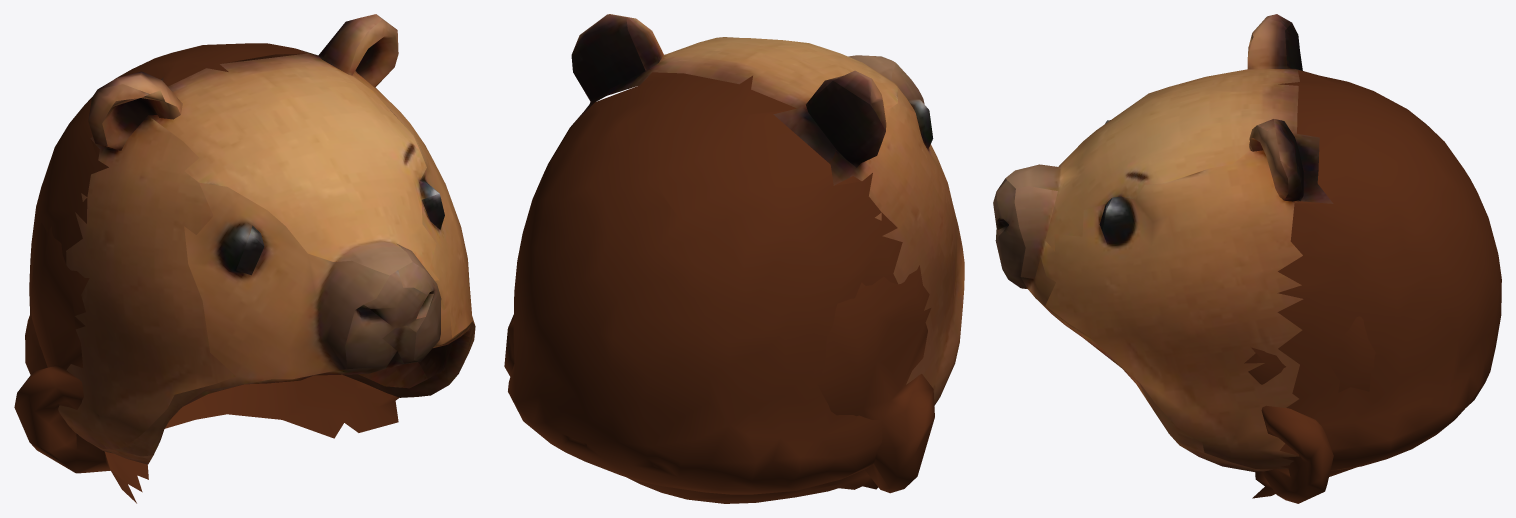
The model's file is capybara.glb.
3 views of the same model, side by side, from view 1: azimuth 30°, elevation 25°; view 2: azimuth 150°, elevation 25°; view 3: azimuth 270°, elevation 25° (orthographic). The views are drawn at different scales.
Parts seen in each view (by area): view 1: geometry_0, HoodAnatomicalLining; view 2: geometry_0, HoodAnatomicalLining; view 3: geometry_0, HoodAnatomicalLining.
Boxes of the visible parts, x1,y1,x2,y2 form: geometry_0: [25, 14, 475, 464]; HoodAnatomicalLining: [14, 222, 399, 503]; geometry_0: [508, 14, 964, 494]; HoodAnatomicalLining: [504, 176, 934, 503]; geometry_0: [993, 14, 1501, 471]; HoodAnatomicalLining: [1244, 200, 1375, 503].
Bounding box in the file's own units: 0.512 × 0.493 × 0.5936.
Materials: 2 (1 with a texture image).
